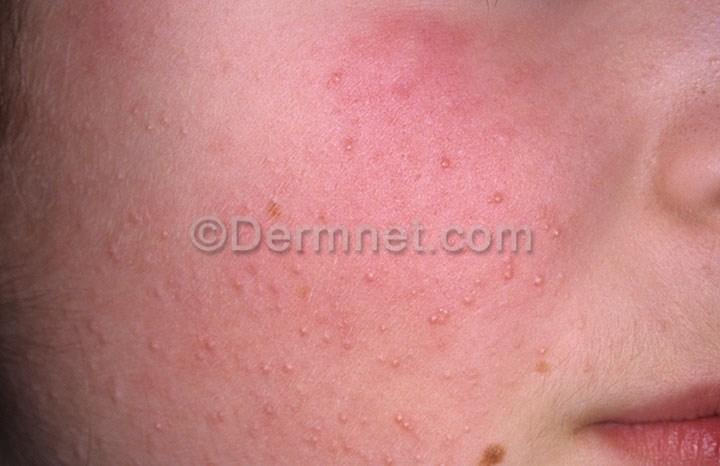Eritema 2: (221, 4, 626, 412)
edema 1: (74, 61, 582, 465)
